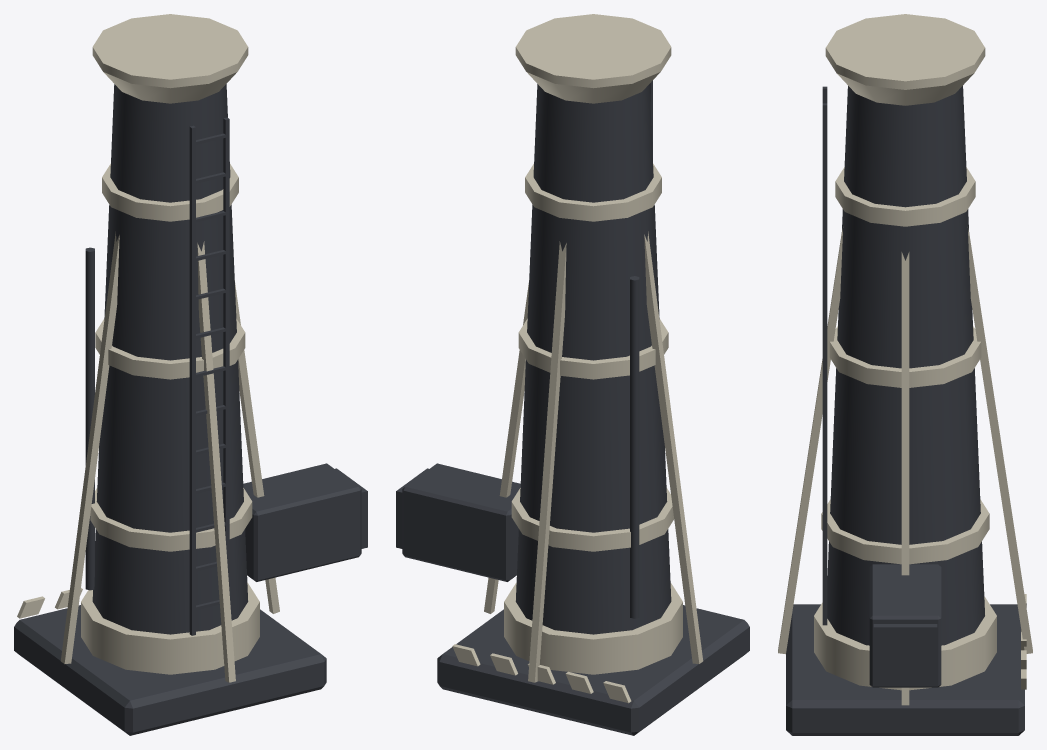
Rendered from exhaust_stack.glb.
3 views of the same model, side by side, from view 1: azimuth 30°, elevation 25°; view 2: azimuth 150°, elevation 25°; view 3: azimuth 270°, elevation 25° (orthographic). The views are drawn at different scales.
Parts seen in each view (by area): view 1: exhaust_stack; view 2: exhaust_stack; view 3: exhaust_stack.
Boxes of the visible parts, left/top/right/bottom form: exhaust_stack: left=14, top=14, right=367, bottom=735; exhaust_stack: left=396, top=14, right=749, bottom=735; exhaust_stack: left=778, top=14, right=1032, bottom=735.
Bounding box in the file's own units: 4.3 × 8.87 × 3.2.
